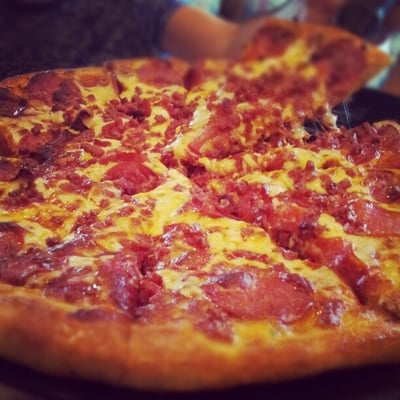sandwich: (0, 49, 400, 393), (232, 18, 392, 119)
